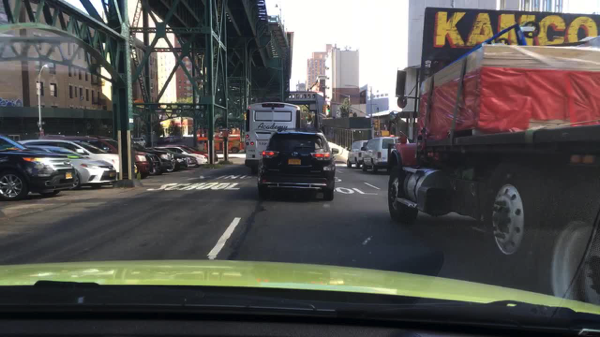bus: (245, 104, 305, 175), (196, 132, 242, 154)
car: (257, 126, 339, 201), (42, 134, 150, 181), (15, 140, 117, 188), (0, 134, 72, 200), (56, 140, 137, 186), (130, 140, 175, 174), (362, 136, 400, 172), (154, 147, 199, 169), (165, 145, 207, 165), (346, 140, 368, 168), (160, 149, 189, 170), (190, 147, 218, 162), (133, 137, 147, 147)
traffic light: (326, 103, 330, 114), (322, 105, 325, 112)
traffic sign: (218, 127, 229, 132)
truck: (386, 24, 599, 308), (374, 119, 377, 128)
